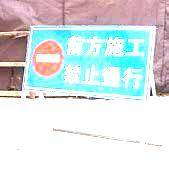sign: (26, 28, 150, 96)
